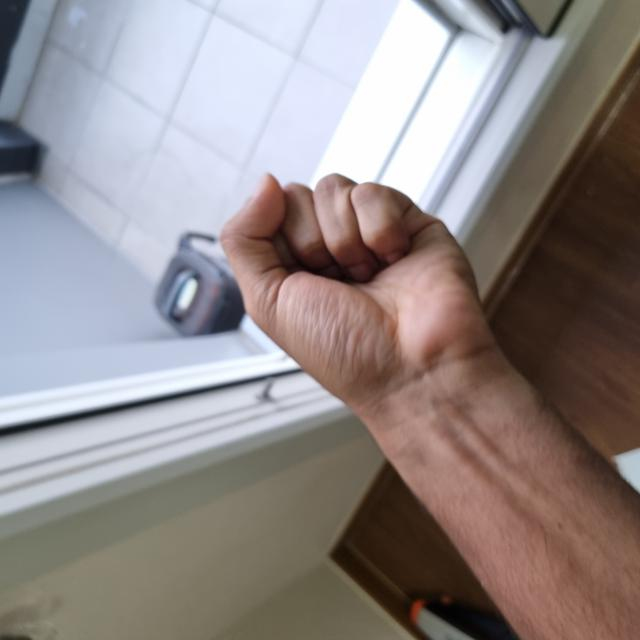Rock: (192, 220, 463, 505)
